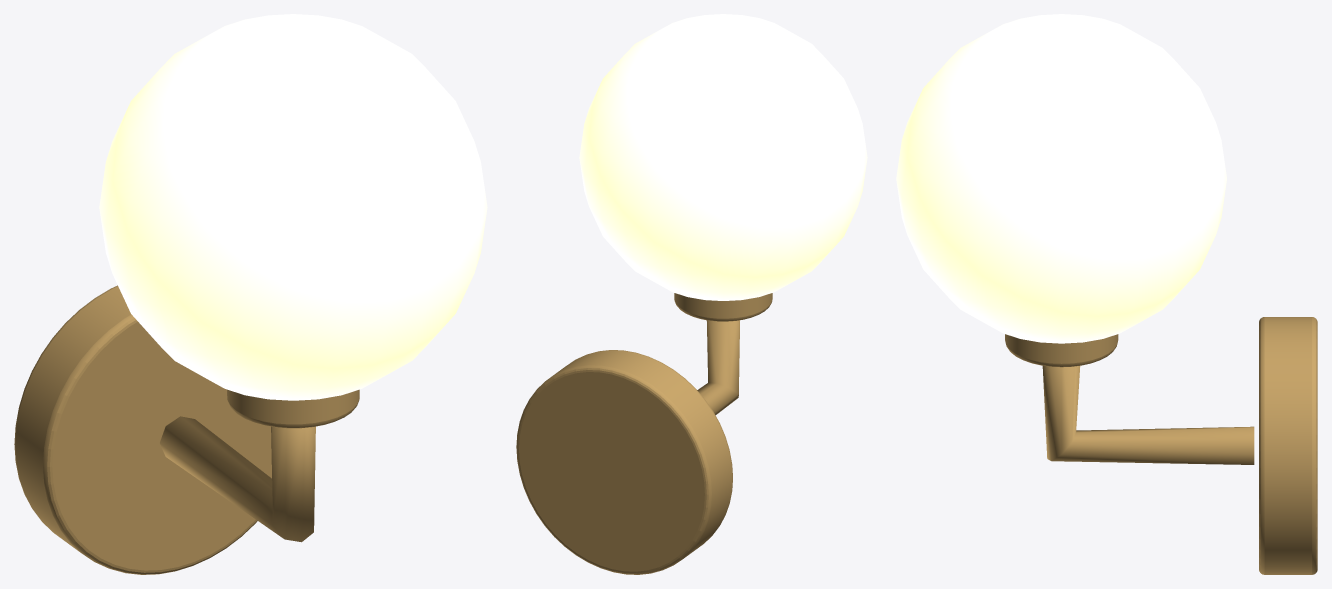
Rendered from Wall_Sconce.glb.
3 renders of one model, left to right at view 1: azimuth 30°, elevation 25°; view 2: azimuth 150°, elevation 25°; view 3: azimuth 270°, elevation 25°, orthographic. The views are drawn at different scales.
Visible parts, largest first — view 1: Wall_Sconce_Mesh; view 2: Wall_Sconce_Mesh; view 3: Wall_Sconce_Mesh.
Boxes of the visible parts, left/top/right/bottom form: Wall_Sconce_Mesh: left=14, top=14, right=487, bottom=574; Wall_Sconce_Mesh: left=516, top=14, right=867, bottom=574; Wall_Sconce_Mesh: left=896, top=14, right=1317, bottom=574.
Size of the model in its own units: 0.146 by 0.26 by 0.186.
